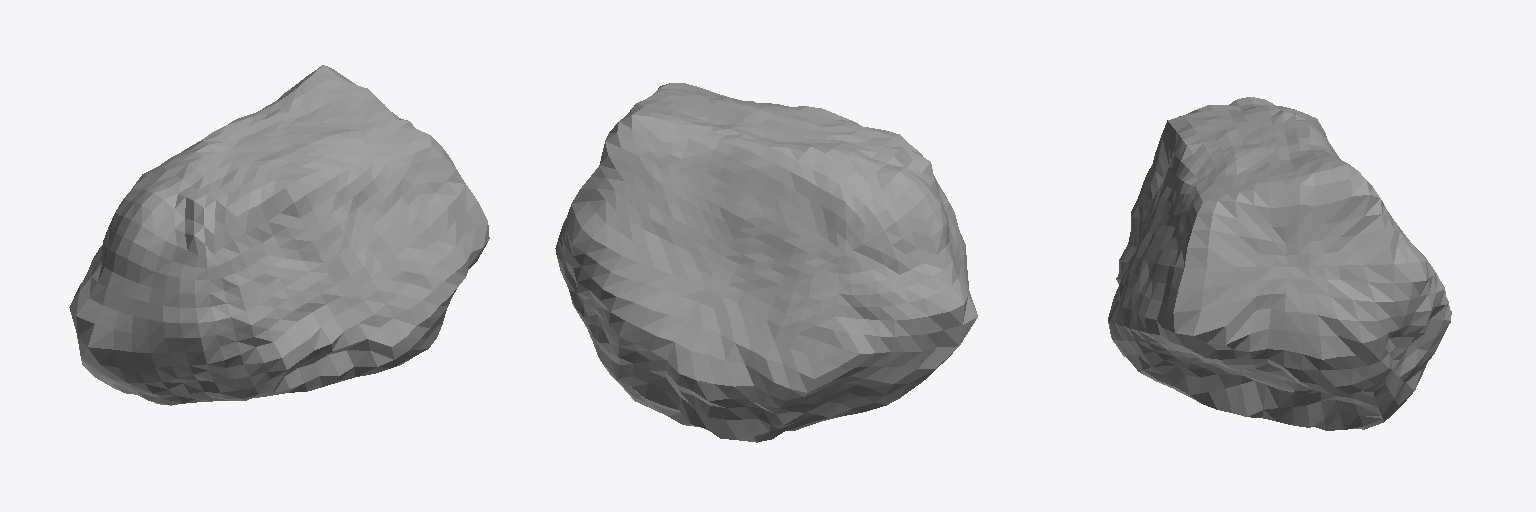
File: stone.obj
3 views of the same model, side by side, from view 1: azimuth 30°, elevation 25°; view 2: azimuth 150°, elevation 25°; view 3: azimuth 270°, elevation 25° (orthographic).
Parts seen in each view (by area): view 1: stone; view 2: stone; view 3: stone.
Part boxes in pixels (x1,y1,x2,y2): stone: (69,65,489,405); stone: (555,83,977,442); stone: (1108,97,1451,430).
Size of the model in its own units: 12.02 by 8.59 by 9.47.